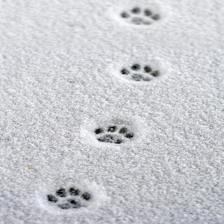cat: (90, 122, 139, 149), (43, 185, 93, 211), (118, 60, 163, 86)
